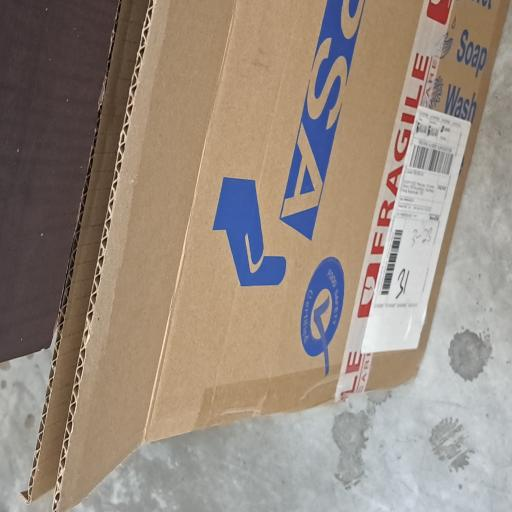cardboard: (0, 25, 384, 512)
